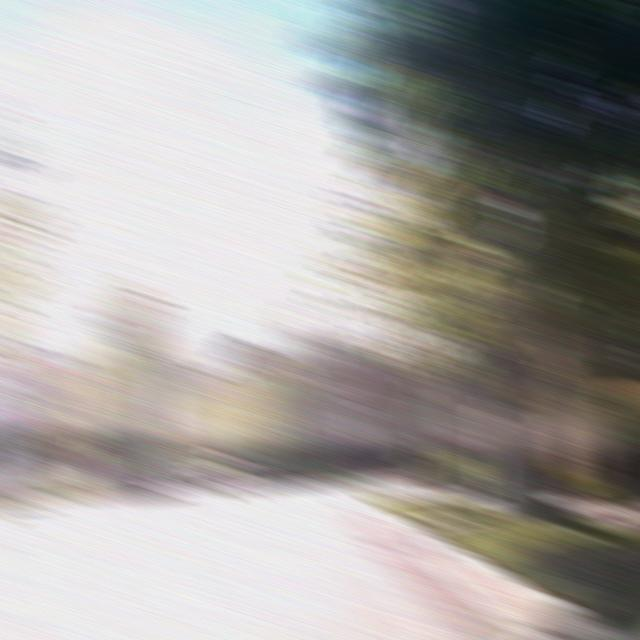stop_sign: (350, 375, 389, 413)
